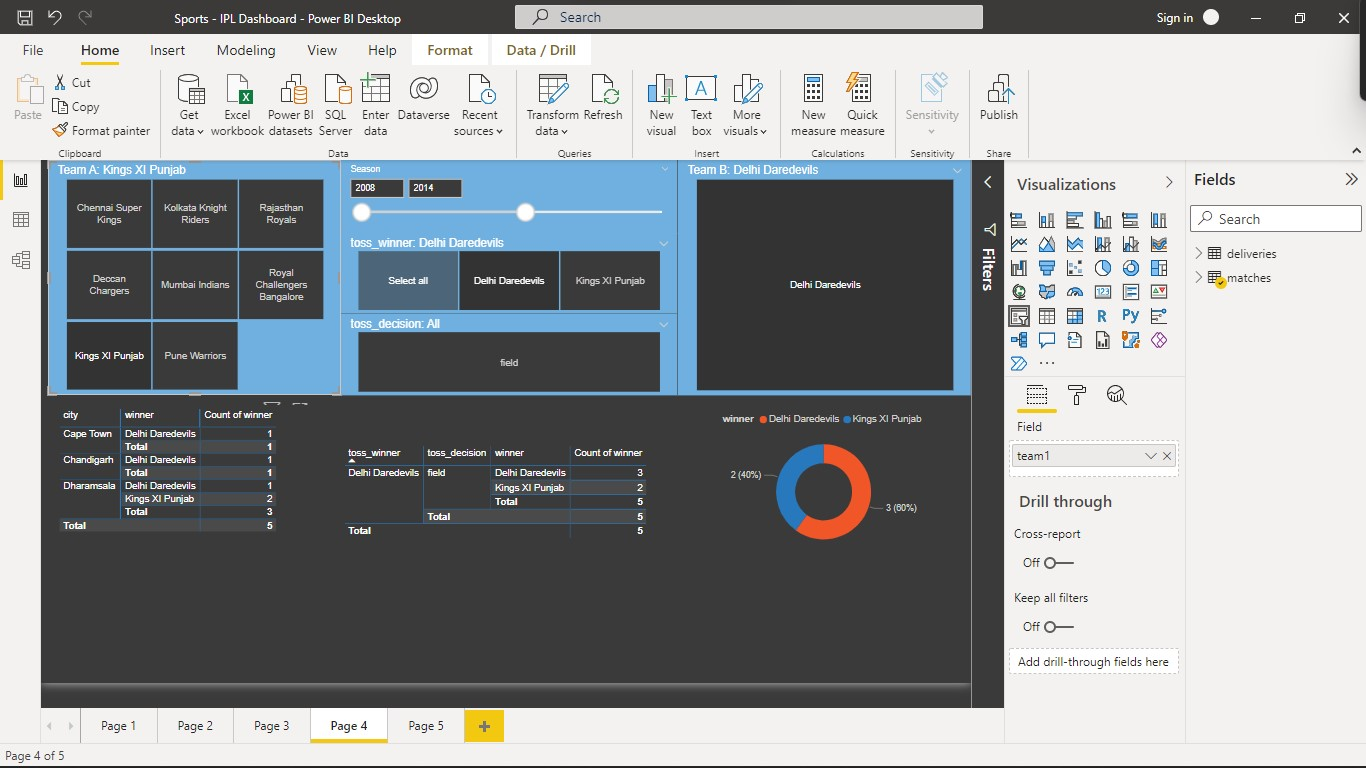

Layout of this report page (visuals, bound fields, positions):
{"tool":"powerbi","page":{"name":"Page 4","canvas":[1280,720],"ordinal":3},"visuals":[{"type":"slicer","fields":{"Values":["matches.team1"]},"box":[9.6,0,403.3,323.4],"z":0},{"type":"slicer","fields":{"Values":["matches.team2"]},"box":[876.2,0,403.3,323.8],"z":1000},{"type":"slicer","fields":{"Values":["matches.season"]},"box":[413.3,0,463,100.8],"z":2000},{"type":"slicer","fields":{"Values":["matches.toss_winner"]},"box":[413.3,100.8,463,110.8],"z":3000},{"type":"slicer","fields":{"Values":["matches.toss_decision"]},"box":[413.3,211.6,463,112.2],"z":4000},{"type":"donutChart","fields":{"Category":["matches.winner"],"Y":["CountNonNull(matches.winner)"]},"box":[911.7,336.6,332.3,210.2],"z":5000},{"type":"pivotTable","fields":{"Rows":["matches.city","matches.winner"],"Values":["CountNonNull(matches.winner)"]},"box":[21.3,336.6,392,347.9],"z":6000},{"type":"pivotTable","fields":{"Rows":["matches.toss_winner","matches.toss_decision","matches.winner"],"Values":["CountNonNull(matches.winner)"]},"box":[413.3,387.7,519.8,296.8],"z":7000}]}

Visuals, with their boxes on the page's 1280x720 design canvas (x1, y1, x2, y2). These are canvas units, not pixel positions in the 1366x768 screenshot, which may show the page scaled, cropped or inside an application window:
slicer - matches.team1: 10, 0, 413, 323
slicer - matches.team2: 876, 0, 1280, 324
slicer - matches.season: 413, 0, 876, 101
slicer - matches.toss_winner: 413, 101, 876, 212
slicer - matches.toss_decision: 413, 212, 876, 324
donutChart - matches.winner x CountNonNull(matches.winner): 912, 337, 1244, 547
pivotTable - matches.city x matches.winner: 21, 337, 413, 684
pivotTable - matches.toss_winner x matches.toss_decision: 413, 388, 933, 684
